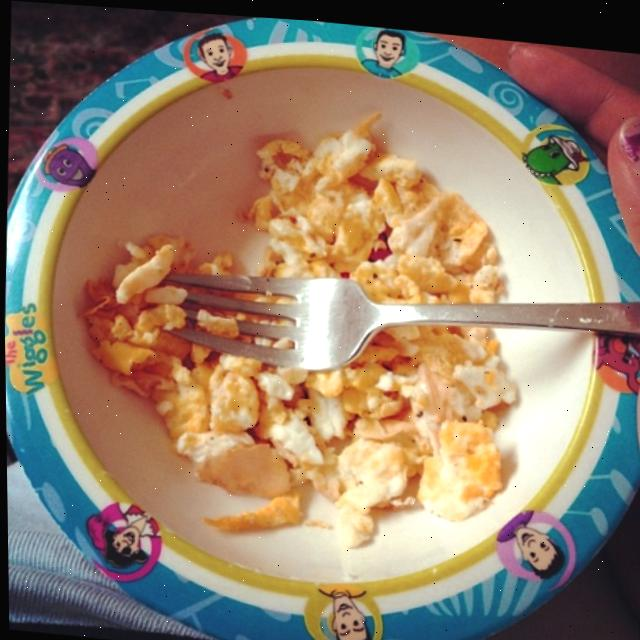鸡蛋料理: (46, 22, 602, 607)
